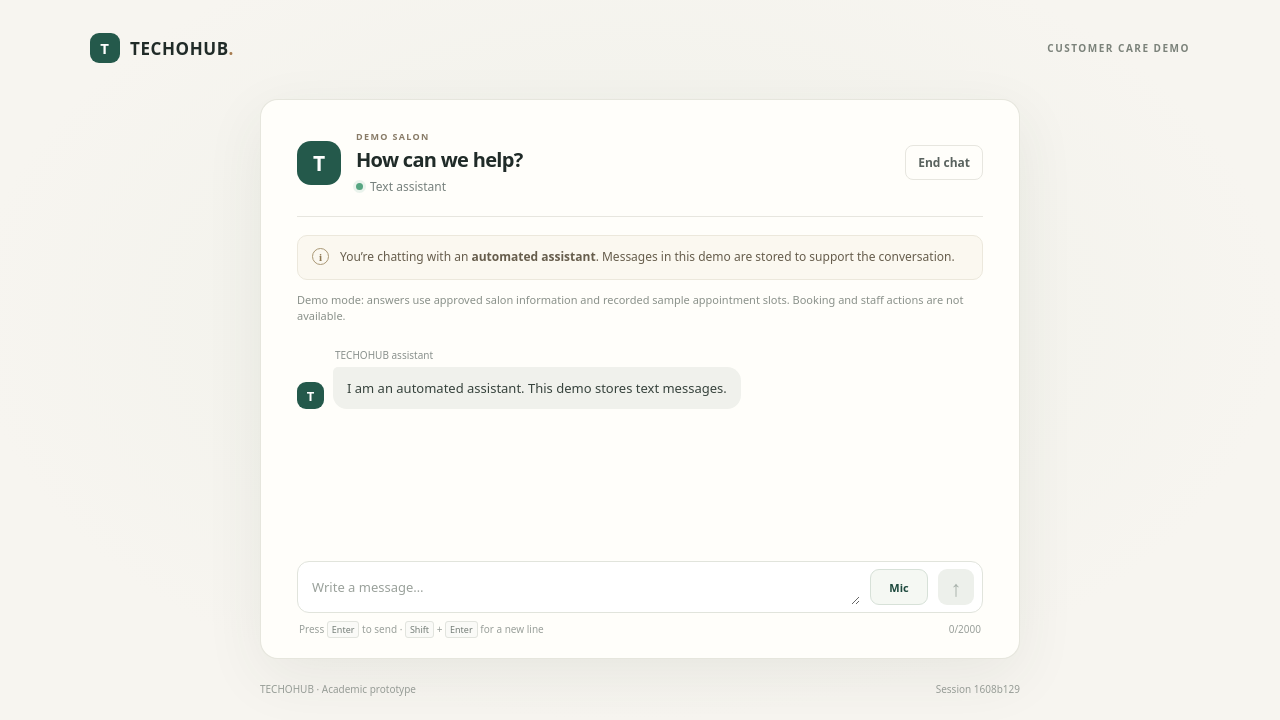
browser text chat › submits a final recognized transcript through the existing chat endpoint
Expected: the text "I am an automated assistant. This demo stores text messages." is shown, [333, 367, 741, 409]
Expected: the text box named "Your message" is shown, [312, 571, 860, 605]
Click the button with aria-label "Start voice input" at [899, 587], box [870, 569, 928, 605]
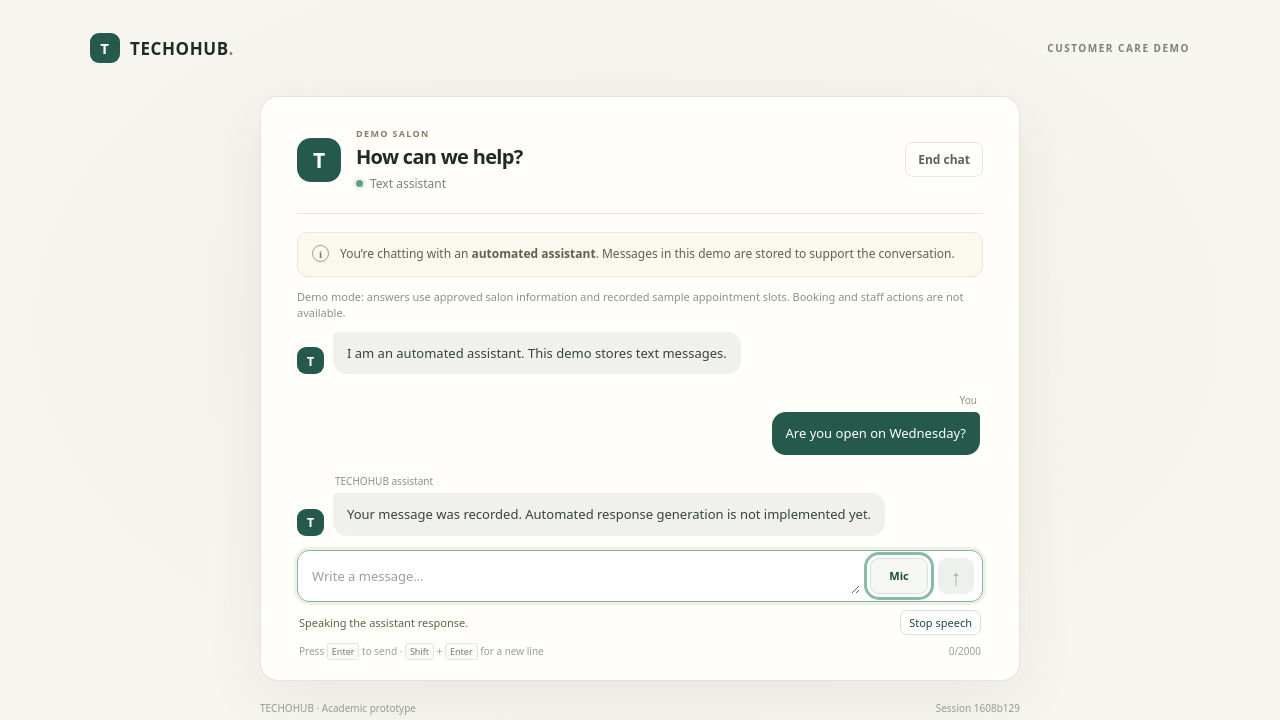
Expected: the text "Are you open on Wednesday?" is shown, [772, 412, 980, 455]
